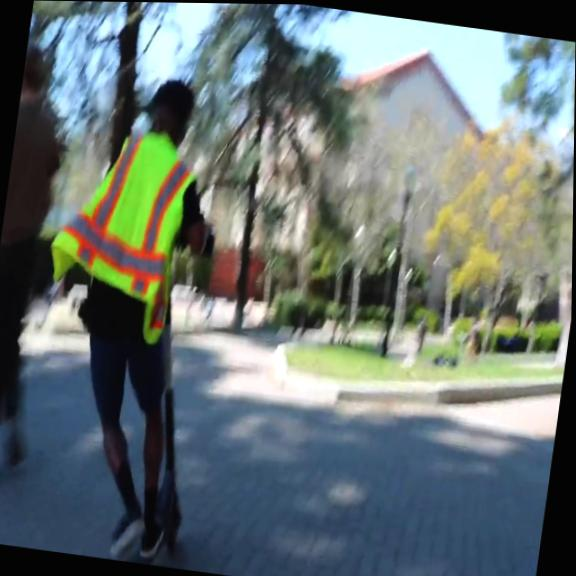safety_vest: (37, 115, 204, 349)
